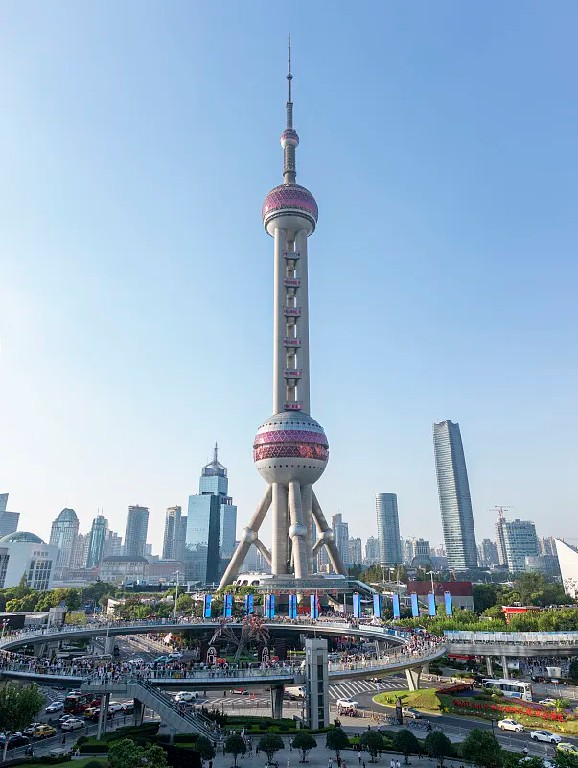Oriental: (219, 32, 349, 592)
